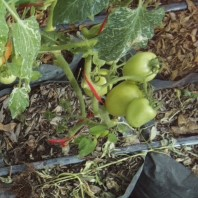tomato: (117, 46, 163, 83), (105, 78, 148, 116), (78, 64, 115, 97), (125, 97, 161, 126)
